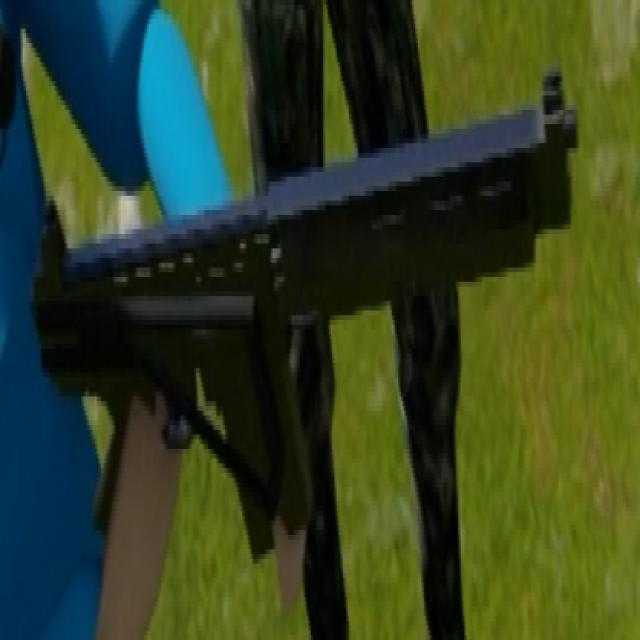Rifle: (27, 54, 589, 598)
